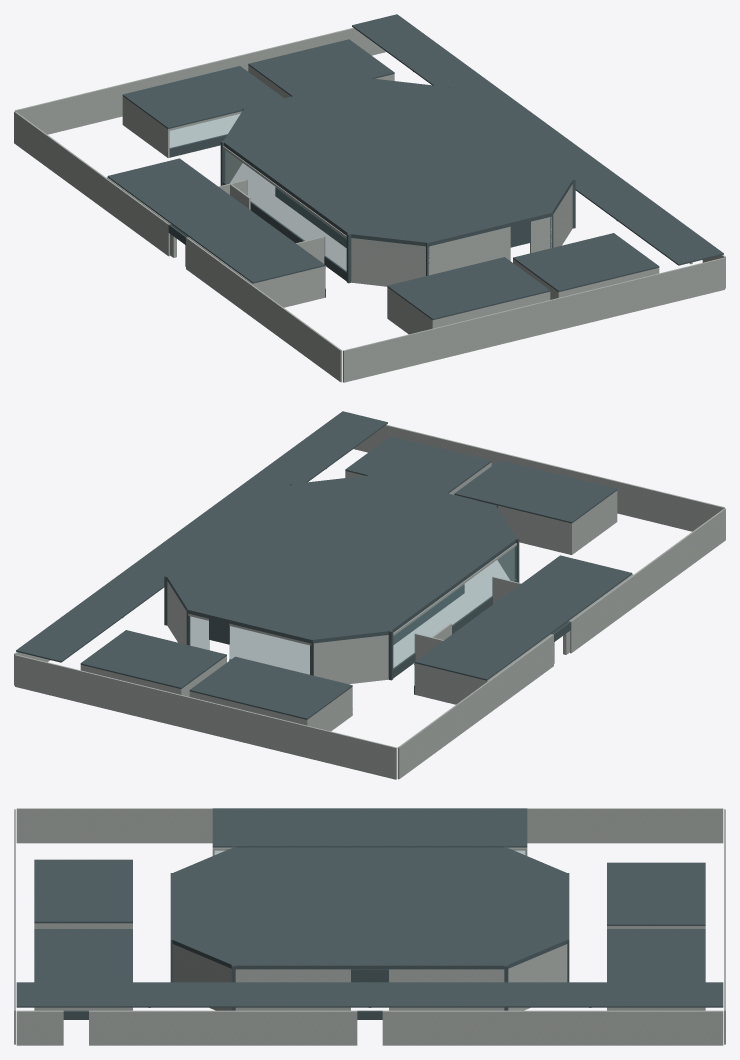
The model's file is AST-ENG-008_receiving_shoulders.glb.
The picture shows the model from 3 angles, top to bottom: view 1: azimuth 30°, elevation 25°; view 2: azimuth 150°, elevation 25°; view 3: azimuth 270°, elevation 25°; orthographic projection. The views are drawn at different scales.
Parts seen in each view (by area): view 1: hall_faceted_soffit, east_street_ceiling, boundary_end_-398.15_wall0, visitor_ceiling, boundary_end_-465.85_wall0, workbay_ceiling, control_ceiling, boundary_west_wall2, boundary_west_wall0, clean_returns_ceiling, technical_staging_ceiling, hall_face_7_glass0 (+12 smaller); view 2: hall_faceted_soffit, east_street_ceiling, boundary_end_-465.85_wall0, visitor_ceiling, boundary_end_-398.15_wall0, control_ceiling, workbay_ceiling, boundary_west_wall0, boundary_west_wall2, technical_staging_ceiling, clean_returns_ceiling, hall_face_7_glass0 (+12 smaller); view 3: hall_faceted_soffit, east_street_ceiling, visitor_ceiling, boundary_east_n_wall0, boundary_east_n_wall2, boundary_west_wall0, boundary_west_wall2, workbay_ceiling, control_ceiling, technical_staging_ceiling, clean_returns_ceiling, hall_face_3_wall0 (+9 smaller).
Boxes of the visible parts, x1,y1,x2,y2 form: hall_faceted_soffit: (223, 78, 572, 246); east_street_ceiling: (352, 14, 723, 265); boundary_end_-398.15_wall0: (343, 257, 724, 382); visitor_ceiling: (107, 158, 324, 283); boundary_end_-465.85_wall0: (15, 27, 385, 134); workbay_ceiling: (387, 257, 550, 319); control_ceiling: (122, 66, 283, 128); boundary_west_wall2: (186, 237, 342, 382); boundary_west_wall0: (14, 111, 169, 256); clean_returns_ceiling: (513, 233, 659, 291); technical_staging_ceiling: (248, 39, 394, 96); hall_face_7_glass0: (223, 149, 346, 271); hall_faceted_soffit: (167, 475, 516, 643); east_street_ceiling: (16, 411, 387, 662); boundary_end_-465.85_wall0: (15, 654, 396, 779); visitor_ceiling: (415, 555, 632, 680); boundary_end_-398.15_wall0: (354, 424, 724, 531); control_ceiling: (189, 656, 352, 719); workbay_ceiling: (454, 460, 617, 523); boundary_west_wall0: (397, 634, 553, 779); boundary_west_wall2: (570, 508, 725, 653); technical_staging_ceiling: (80, 630, 226, 688); clean_returns_ceiling: (345, 436, 491, 493); hall_face_7_glass0: (393, 546, 516, 668); hall_faceted_soffit: (170, 847, 569, 969); east_street_ceiling: (16, 982, 723, 1007); visitor_ceiling: (212, 808, 527, 847); boundary_east_n_wall0: (382, 1010, 723, 1045); boundary_east_n_wall2: (89, 1010, 357, 1045); boundary_west_wall0: (527, 808, 723, 843); boundary_west_wall2: (16, 808, 212, 843); workbay_ceiling: (34, 859, 132, 923); control_ceiling: (607, 862, 705, 925); technical_staging_ceiling: (607, 929, 705, 982); clean_returns_ceiling: (34, 929, 132, 982); hall_face_3_wall0: (389, 969, 504, 1010).
Size of the model in its own units: 45.88 by 5.52 by 67.88.
Materials: 5 (4 with a texture image).
